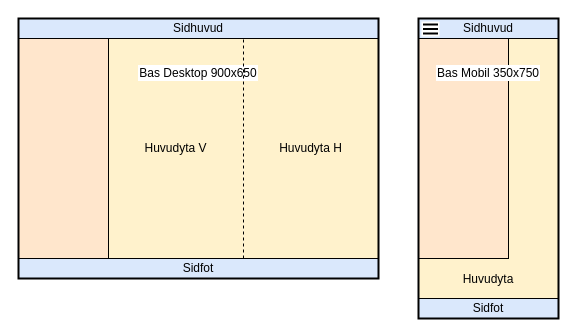
This 576x336 diagram has some shape labels left out. Here are the shapes that lost their labels. From the top down, the centre of each, then its label:
pixel 63 148: Meny (fast)
pixel 463 148: Meny (flytande)
